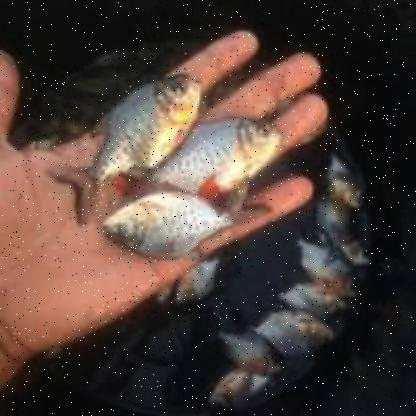ikan-pacu: (70, 71, 202, 189), (100, 192, 247, 254), (156, 120, 278, 190)
